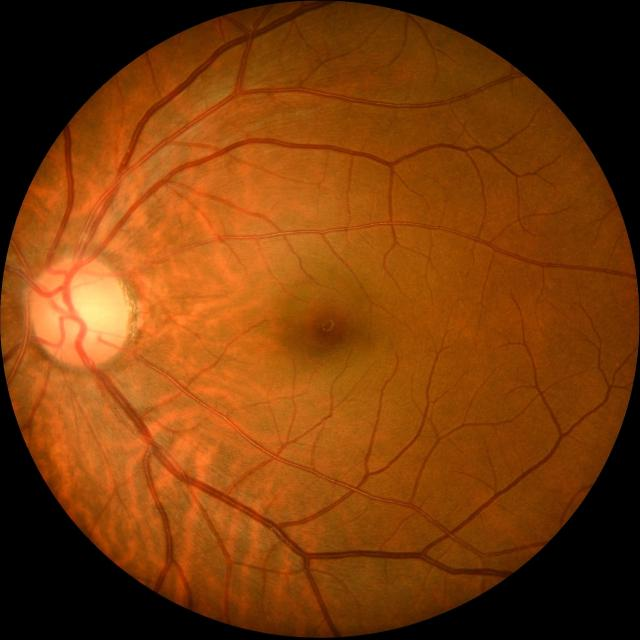OC: (63, 277, 112, 338)
OD: (28, 258, 132, 366)
